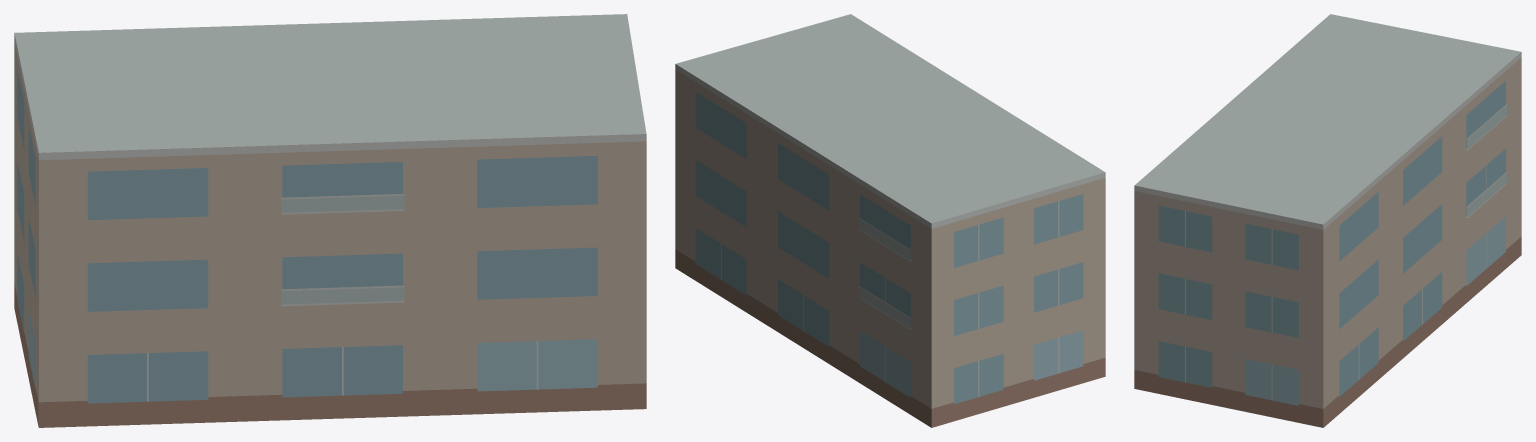
Rendered from survey-upis-32997602.glb.
3 views of the same model, side by side, from view 1: azimuth 30°, elevation 25°; view 2: azimuth 150°, elevation 25°; view 3: azimuth 270°, elevation 25° (orthographic). The views are drawn at different scales.
Parts seen in each view (by area): view 1: survey-upis-32997602.tmp; view 2: survey-upis-32997602.tmp; view 3: survey-upis-32997602.tmp.
Part boxes in pixels (<box>): survey-upis-32997602.tmp: <box>14,14,646,427</box>; survey-upis-32997602.tmp: <box>675,14,1105,427</box>; survey-upis-32997602.tmp: <box>1134,14,1521,427</box>.
Bounding box in the file's own units: 20.33 × 9.15 × 15.8.
